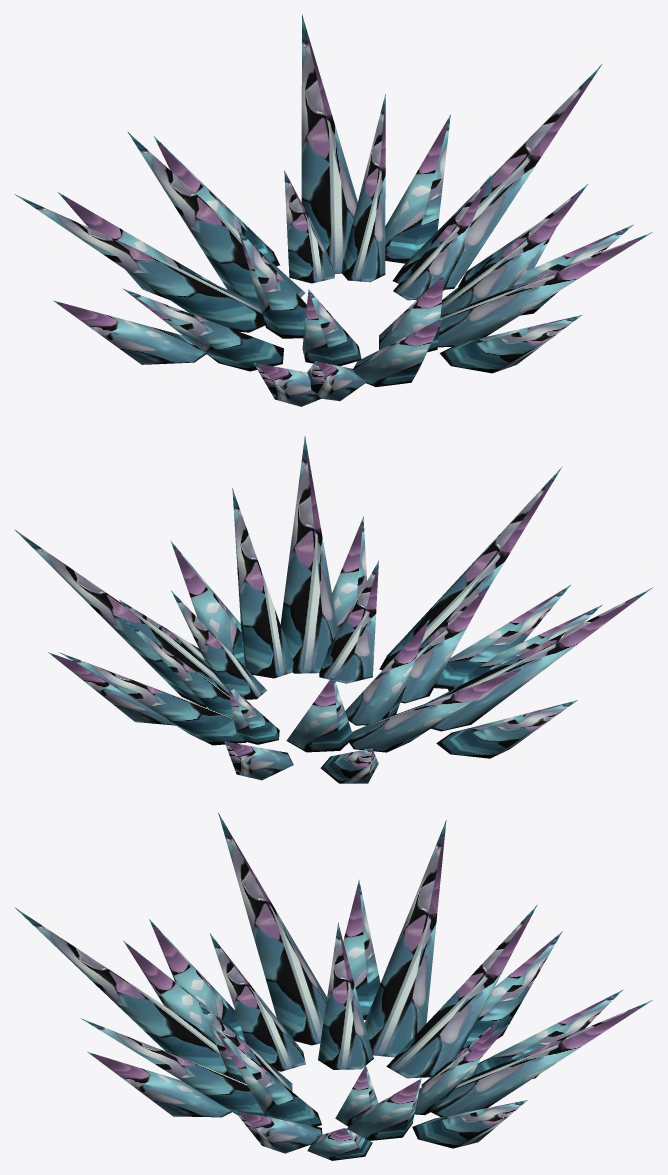
Rendered from 0216_baofengci_shuijun_M.glb.
3 renders of one model, top to bottom at view 1: azimuth 30°, elevation 25°; view 2: azimuth 150°, elevation 25°; view 3: azimuth 270°, elevation 25°, orthographic. The views are drawn at different scales.
Bounding box in the file's own units: 2.17 × 0.522 × 2.2.
1 material, 1 textured.
